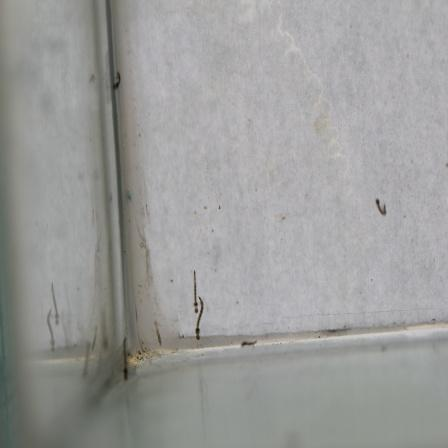Jentik-Nyamuk: (188, 265, 207, 343), (119, 334, 134, 384), (371, 195, 390, 221), (109, 67, 127, 93)
